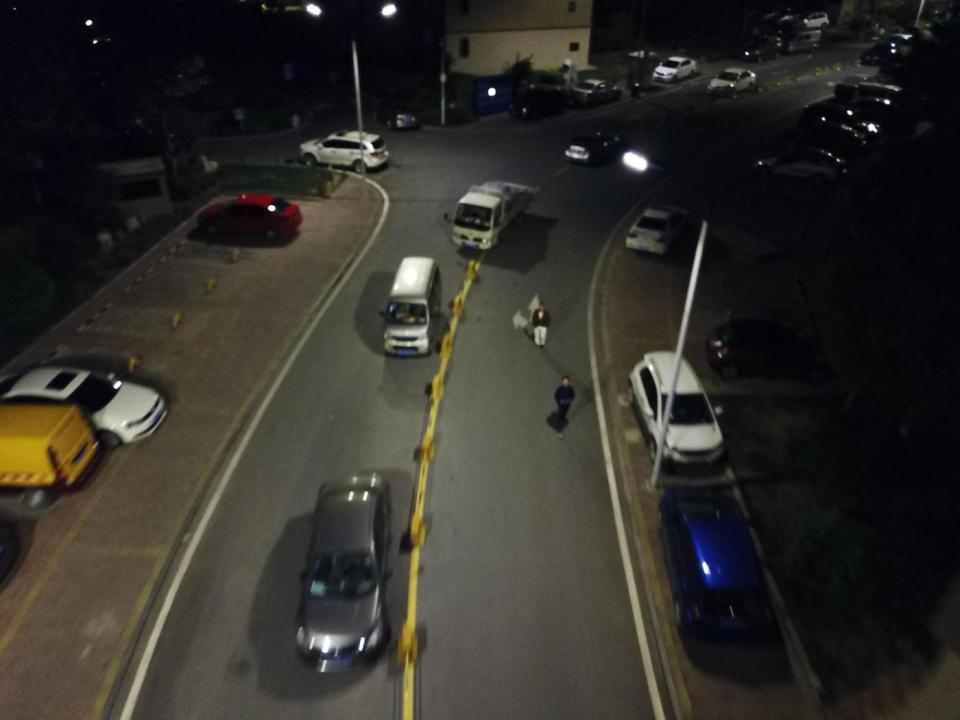car: (295, 471, 396, 670), (655, 481, 777, 642), (0, 366, 167, 445), (626, 347, 728, 470), (705, 313, 836, 389), (195, 194, 303, 241), (295, 132, 391, 174), (626, 200, 691, 261), (750, 147, 850, 185), (806, 101, 879, 145), (561, 131, 623, 171), (842, 94, 910, 130), (803, 114, 870, 148), (503, 84, 564, 118), (832, 71, 891, 97), (372, 99, 421, 130), (705, 66, 758, 94), (651, 54, 698, 82), (737, 34, 784, 62), (573, 78, 622, 103), (860, 41, 902, 68), (758, 6, 796, 28), (773, 10, 809, 30), (796, 11, 832, 29)
truck: (442, 178, 539, 252)
van: (0, 403, 106, 512), (381, 256, 440, 360), (859, 80, 918, 120), (785, 28, 823, 56)
